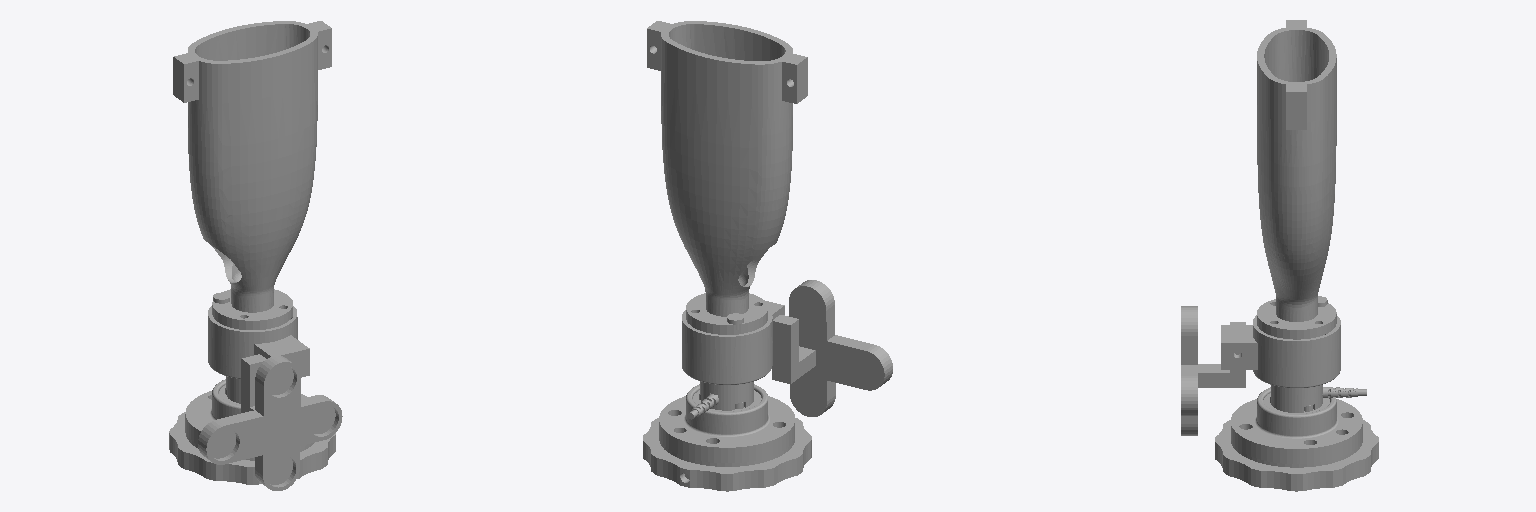
robot.urdf — LWR_US:
<?xml version="1.0" encoding="utf-8"?>
<!-- =================================================================================== -->
<!-- |    This document was autogenerated by xacro from use_case_setup_lwr.urdf.xacro  | -->
<!-- |    EDITING THIS FILE BY HAND IS NOT RECOMMENDED                                 | -->
<!-- =================================================================================== -->
<robot name="LWR_US" xmlns:controller="http://playerstage.sourceforge.net/gazebo/xmlschema/#controller" xmlns:interface="http://playerstage.sourceforge.net/gazebo/xmlschema/#interface" xmlns:sensor="http://playerstage.sourceforge.net/gazebo/xmlschema/#sensor">
  <material name="DarkGrey">
    <color rgba="0.3 0.3 0.3 1.0"/>
  </material>
  <material name="Black">
    <color rgba="0 0 0 1.0"/>
  </material>
  <material name="Orange">
    <color rgba="1.0 0.487 0 1.0"/>
  </material>
  <material name="Silver">
    <color rgba="1.0 1.0 1.0 1.0"/>
  </material>
  <material name="Grey">
    <color rgba="0.7 0.7 0.7 1.0"/>
  </material>
  <material name="Blue">
    <color rgba="0.0 0.0 0.8 1.0"/>
  </material>
  <material name="HandGray">
    <color rgba="0.953 0.996 0.694 1.0"/>
  </material>
  <material name="SickBlue">
    <color rgba="0.3058 0.5921 0.7294 1.0"/>
  </material>
  <material name="Wheat">
    <color rgba="0.8039 0.5215 0.2470 1.0"/>
  </material>
  <link name="world"/>
  <joint name="world_lwr_arm_base_joint" type="fixed">
    <origin rpy="0 0 0" xyz="0 0 0"/>
    <parent link="world"/>
    <child link="calib_lwr_arm_base_link"/>
  </joint>
  <link name="calib_lwr_arm_base_link">
    <inertial>
      <mass value="2.0"/>
      <origin rpy="0 0 0" xyz="0 0 0.055"/>
      <inertia ixx="0.00381666666667" ixy="0" ixz="0" iyy="0.0036" iyz="0" izz="0.00381666666667"/>
    </inertial>
    <visual>
      <origin rpy="0 0 0" xyz="0 0 0"/>
      <geometry>
        <mesh filename="package://kuka_lwr_description/meshes/arm/arm_base.stl"/>
      </geometry>
      <material name="Orange"/>
    </visual>
    <collision>
      <origin rpy="0 0 0" xyz="0 0 0"/>
      <geometry>
        <mesh filename="package://kuka_lwr_description/meshes/arm/convex/arm_base_convex.stl"/>
      </geometry>
    </collision>
  </link>
  <gazebo reference="calib_lwr_arm_base_link">
    <material value="kuka-lwr.material"/>
  </gazebo>
  <joint name="lwr_arm_joint_0" type="revolute">
    <origin rpy="0 0 0" xyz="0 0 0.11"/>
    <axis xyz="0 0 1"/>
    <limit effort="204" lower="-2.96705972839" upper="2.96705972839" velocity="1.91986217719"/>
    <safety_controller k_position="100" k_velocity="2" soft_lower_limit="-2.93215314335" soft_upper_limit="2.93215314335"/>
    <dynamics damping="0.1"/>
    <parent link="calib_lwr_arm_base_link"/>
    <child link="lwr_arm_link_1"/>
  </joint>
  <link name="lwr_arm_link_1">
    <inertial>
      <mass value="2.0"/>
      <origin rpy="0 0 0" xyz="0 0 0.130"/>
      <inertia ixx="0.0136666666667" ixy="0" ixz="0" iyy="0.003" iyz="0" izz="0.0118666666667"/>
    </inertial>
    <visual>
      <origin rpy="0 0 3.14159265359" xyz="0 0 0"/>
      <geometry>
        <mesh filename="package://kuka_lwr_description/meshes/arm/arm_segment_a.stl"/>
      </geometry>
      <material name="Orange"/>
    </visual>
    <collision>
      <origin rpy="0 0 3.14159265359" xyz="0 0 0"/>
      <geometry>
        <mesh filename="package://kuka_lwr_description/meshes/arm/convex/arm_segment_a_convex.stl"/>
      </geometry>
    </collision>
  </link>
  <gazebo reference="lwr_arm_link_1">
    <material value="kuka-lwr.material"/>
  </gazebo>
  <transmission name="lwr_arm_trans_0" type="pr2_mechanism_model/SimpleTransmission">
    <actuator name="lwr_arm_motor_0"/>
    <joint name="lwr_arm_joint_0"/>
    <mechanicalReduction>1.0</mechanicalReduction>
  </transmission>
  <joint name="lwr_arm_joint_1" type="revolute">
    <origin rpy="0 0 0" xyz="0 0 0.20"/>
    <axis xyz="0 -1 0"/>
    <limit effort="306" lower="-2.09439510239" upper="2.09439510239" velocity="1.91986217719"/>
    <safety_controller k_position="100" k_velocity="2" soft_lower_limit="-2.05948851735" soft_upper_limit="2.05948851735"/>
    <dynamics damping="0.1"/>
    <parent link="lwr_arm_link_1"/>
    <child link="lwr_arm_link_2"/>
  </joint>
  <link name="lwr_arm_link_2">
    <inertial>
      <mass value="2.0"/>
      <origin rpy="0 0 0" xyz="0 0.06 0.07"/>
      <inertia ixx="0.0136666666667" ixy="0" ixz="0" iyy="0.003" iyz="0" izz="0.0118666666667"/>
    </inertial>
    <visual>
      <origin rpy="3.14159265359 0 3.14159265359" xyz="0 0 0.2"/>
      <geometry>
        <mesh filename="package://kuka_lwr_description/meshes/arm/arm_segment_b.stl"/>
      </geometry>
      <material name="Orange"/>
    </visual>
    <collision>
      <origin rpy="3.14159265359 0 3.14159265359" xyz="0 0 0.2"/>
      <geometry>
        <mesh filename="package://kuka_lwr_description/meshes/arm/convex/arm_segment_b_convex.stl"/>
      </geometry>
    </collision>
  </link>
  <gazebo reference="lwr_arm_link_2">
    <material value="kuka-lwr.material"/>
  </gazebo>
  <transmission name="lwr_arm_trans_1" type="pr2_mechanism_model/SimpleTransmission">
    <actuator name="lwr_arm_motor_1"/>
    <joint name="lwr_arm_joint_1"/>
    <mechanicalReduction>1.0</mechanicalReduction>
  </transmission>
  <joint name="lwr_arm_joint_2" type="revolute">
    <origin rpy="0 0 0" xyz="0 0 0.20"/>
    <axis xyz="0 0 1"/>
    <limit effort="204" lower="-2.96705972839" upper="2.96705972839" velocity="2.26892802759"/>
    <safety_controller k_position="100" k_velocity="2" soft_lower_limit="-2.93215314335" soft_upper_limit="2.93215314335"/>
    <dynamics damping="0.1"/>
    <parent link="lwr_arm_link_2"/>
    <child link="lwr_arm_link_3"/>
  </joint>
  <link name="lwr_arm_link_3">
    <inertial>
      <mass value="2.0"/>
      <origin rpy="0 0 0" xyz="0 0.06 0.130"/>
      <inertia ixx="0.0136666666667" ixy="0" ixz="0" iyy="0.003" iyz="0" izz="0.0118666666667"/>
    </inertial>
    <visual>
      <origin rpy="0 0 0" xyz="0 0 0"/>
      <geometry>
        <mesh filename="package://kuka_lwr_description/meshes/arm/arm_segment_a.stl"/>
      </geometry>
      <material name="Orange"/>
    </visual>
    <collision>
      <origin rpy="0 0 0" xyz="0 0 0"/>
      <geometry>
        <mesh filename="package://kuka_lwr_description/meshes/arm/convex/arm_segment_a_convex.stl"/>
      </geometry>
    </collision>
  </link>
  <gazebo reference="lwr_arm_link_3">
    <material value="kuka-lwr.material"/>
  </gazebo>
  <transmission name="lwr_arm_trans_2" type="pr2_mechanism_model/SimpleTransmission">
    <actuator name="lwr_arm_motor_2"/>
    <joint name="lwr_arm_joint_2"/>
    <mechanicalReduction>1.0</mechanicalReduction>
  </transmission>
  <joint name="lwr_arm_joint_3" type="revolute">
    <origin rpy="0 0 0" xyz="0 0 0.20"/>
    <axis xyz="0 1 0"/>
    <limit effort="306" lower="-2.09439510239" upper="2.09439510239" velocity="2.26892802759"/>
    <safety_controller k_position="100" k_velocity="2" soft_lower_limit="-2.05948851735" soft_upper_limit="2.05948851735"/>
    <dynamics damping="0.1"/>
    <parent link="lwr_arm_link_3"/>
    <child link="lwr_arm_link_4"/>
  </joint>
  <link name="lwr_arm_link_4">
    <inertial>
      <mass value="2.0"/>
      <origin rpy="0 0 0" xyz="0 -0.06 0.07"/>
      <inertia ixx="0.0136666666667" ixy="0" ixz="0" iyy="0.003" iyz="0" izz="0.0118666666667"/>
    </inertial>
    <visual>
      <origin rpy="0 3.14159265359 3.14159265359" xyz="0 0 0.2"/>
      <geometry>
        <mesh filename="package://kuka_lwr_description/meshes/arm/arm_segment_b.stl"/>
      </geometry>
      <material name="Orange"/>
    </visual>
    <collision>
      <origin rpy="0 3.14159265359 3.14159265359" xyz="0 0 0.2"/>
      <geometry>
        <mesh filename="package://kuka_lwr_description/meshes/arm/convex/arm_segment_b_convex.stl"/>
      </geometry>
    </collision>
  </link>
  <gazebo reference="lwr_arm_link_4">
    <material value="kuka-lwr.material"/>
  </gazebo>
  <transmission name="lwr_arm_trans_3" type="pr2_mechanism_model/SimpleTransmission">
    <actuator name="lwr_arm_motor_3"/>
    <joint name="lwr_arm_joint_3"/>
    <mechanicalReduction>1.0</mechanicalReduction>
  </transmission>
  <joint name="lwr_arm_joint_4" type="revolute">
    <origin rpy="0 0 0" xyz="0 0 0.20"/>
    <axis xyz="0 0 1"/>
    <limit effort="204" lower="-2.96705972839" upper="2.96705972839" velocity="2.26892802759"/>
    <safety_controller k_position="100" k_velocity="2" soft_lower_limit="-2.93215314335" soft_upper_limit="2.93215314335"/>
    <dynamics damping="0.1"/>
    <parent link="lwr_arm_link_4"/>
    <child link="lwr_arm_link_5"/>
  </joint>
  <link name="lwr_arm_link_5">
    <inertial>
      <mass value="2.0"/>
      <origin rpy="0 0 0" xyz="0 0 0.124"/>
      <inertia ixx="0.0126506666667" ixy="0" ixz="0" iyy="0.003" iyz="0" izz="0.0108506666667"/>
    </inertial>
    <visual>
      <origin rpy="0 0 3.14159265359" xyz="0 0 0"/>
      <geometry name="lwr_arm_5_geom">
        <mesh filename="package://kuka_lwr_description/meshes/arm/arm_segment_last.stl"/>
      </geometry>
      <material name="Orange"/>
    </visual>
    <collision>
      <origin rpy="0 0 3.14159265359" xyz="0 0 0"/>
      <geometry>
        <mesh filename="package://kuka_lwr_description/meshes/arm/convex/arm_segment_last_convex.stl"/>
      </geometry>
    </collision>
  </link>
  <gazebo reference="lwr_arm_link_5">
    <material value="kuka-lwr.material"/>
  </gazebo>
  <transmission name="lwr_arm_trans_4" type="pr2_mechanism_model/SimpleTransmission">
    <actuator name="lwr_arm_motor_4"/>
    <joint name="lwr_arm_joint_4"/>
    <mechanicalReduction>1.0</mechanicalReduction>
  </transmission>
  <joint name="lwr_arm_joint_5" type="revolute">
    <origin rpy="0 0 0" xyz="0 0 0.19"/>
    <axis xyz="0 -1 0"/>
    <limit effort="306" lower="-2.09439510239" upper="2.09439510239" velocity="3.14159265359"/>
    <safety_controller k_position="100" k_velocity="2" soft_lower_limit="-2.05948851735" soft_upper_limit="2.05948851735"/>
    <dynamics damping="0.1"/>
    <parent link="lwr_arm_link_5"/>
    <child link="lwr_arm_link_6"/>
  </joint>
  <link name="lwr_arm_link_6">
    <inertial>
      <mass value="2.0"/>
      <origin rpy="0 0 0" xyz="0 0 0.0625"/>
      <inertia ixx="0.00520833333333" ixy="0" ixz="0" iyy="0.00520833333333" iyz="0" izz="0.00520833333333"/>
    </inertial>
    <visual>
      <origin rpy="0 0 3.14159265359" xyz="0 0 0"/>
      <geometry>
        <mesh filename="package://kuka_lwr_description/meshes/arm/arm_wrist.stl"/>
      </geometry>
      <material name="Grey"/>
    </visual>
    <collision>
      <origin rpy="0 0 3.14159265359" xyz="0 0 0"/>
      <geometry>
        <mesh filename="package://kuka_lwr_description/meshes/arm/convex/arm_wrist_convex.stl"/>
      </geometry>
    </collision>
  </link>
  <gazebo reference="lwr_arm_link_6">
    <material value="kuka-lwr.material"/>
  </gazebo>
  <transmission name="lwr_arm_trans_5" type="pr2_mechanism_model/SimpleTransmission">
    <actuator name="lwr_arm_motor_5"/>
    <joint name="lwr_arm_joint_5"/>
    <mechanicalReduction>1.0</mechanicalReduction>
  </transmission>
  <joint name="lwr_arm_joint_6" type="revolute">
    <origin rpy="0 0 0" xyz="0 0 0.078"/>
    <axis xyz="0 0 1"/>
    <limit effort="204" lower="-2.96705972839" upper="2.96705972839" velocity="3.14159265359"/>
    <safety_controller k_position="100" k_velocity="2" soft_lower_limit="-2.93215314335" soft_upper_limit="2.93215314335"/>
    <dynamics damping="0.1"/>
    <parent link="lwr_arm_link_6"/>
    <child link="lwr_arm_link_7"/>
  </joint>
  <link name="lwr_arm_link_7">
    <inertial>
      <mass value="2.0"/>
      <origin xyz="0 0 0"/>
      <inertia ixx="0.333333333333" ixy="0" ixz="0" iyy="0.333333333333" iyz="0" izz="0.333333333333"/>
    </inertial>
    <visual>
      <origin rpy="0 0 2.35619449019" xyz="0 0 0"/>
      <geometry>
        <mesh filename="package://kuka_lwr_description/meshes/arm/arm_flanche.stl"/>
      </geometry>
      <material name="Black"/>
    </visual>
    <collision>
      <origin rpy="0 0 2.35619449019" xyz="0 0 0"/>
      <geometry>
        <mesh filename="package://kuka_lwr_description/meshes/arm/convex/arm_flanche_convex.stl"/>
      </geometry>
    </collision>
  </link>
  <gazebo reference="lwr_arm_link_7">
    <material value="kuka-lwr.material"/>
  </gazebo>
  <transmission name="lwr_arm_trans_6" type="pr2_mechanism_model/SimpleTransmission">
    <actuator name="lwr_arm_motor_6"/>
    <joint name="lwr_arm_joint_6"/>
    <mechanicalReduction>1.0</mechanicalReduction>
  </transmission>
  <joint name="lwr_arm_hand_fixed_joint" type="fixed">
    <!-- <origin rpy="0 0 0" xyz="0 0 0.235"/> -->  
    <origin rpy="0 0 0" xyz="0 0 0.280"/>     
    <parent link="lwr_arm_link_7"/>
    <child link="tip_link"/>
  </joint>
  <link name="tip_link">
    <inertial>
      <mass value="0.30"/>
      <origin xyz="0 0 0.10"/>
      <inertia ixx="0.333333333333" ixy="0" ixz="0" iyy="0.333333333333" iyz="0" izz="0.333333333333"/>
    </inertial>
    <visual>
<!--       <origin rpy="0 0 0" xyz="0.0  0.0  -0.235"/> -->
      <origin rpy="0 0 0" xyz="0.0  0.0  -0.270"/>
        <geometry> 
            <mesh filename="package://kuka_lwr_description/meshes/arm/convex/b_with_force_sensor.stl"/> 
        </geometry>
    <material name="Grey"/>
    </visual>
  </link>
  <gazebo reference="lwr_arm_link_7">
    <material value="kuka-lwr.material"/>
  </gazebo>
  <transmission name="lwr_arm_trans_7" type="pr2_mechanism_model/SimpleTransmission">
    <actuator name="lwr_arm_motor_6"/>
    <joint name="lwr_arm_hand_fixed_joint"/>
    <mechanicalReduction>1.0</mechanicalReduction>
  </transmission> 
</robot>

--- Render facts (derived) ---
Views: 3 orthographic renders of the robot side by side, from view 1: azimuth 30°, elevation 25°; view 2: azimuth 150°, elevation 25°; view 3: azimuth 270°, elevation 25°.
Robot: LWR_US — 10 links, 9 joints (7 revolute, 2 fixed); root link world; default pose: all joints at 0.
Links seen in each view (by area): view 1: tip_link; view 2: tip_link; view 3: tip_link.
Boxes of the visible links, x1,y1,x2,y2 form: tip_link: (169,21,342,490); tip_link: (643,21,892,491); tip_link: (1181,20,1378,491).
Size in the robot's own frame: 0.0968 by 0.094 by 0.2136 metres.
Meshes: 7 distinct files referenced, 1 mesh visuals loaded (1 binary STL); not drawn: 8 (reference not matched to a file when rendering).